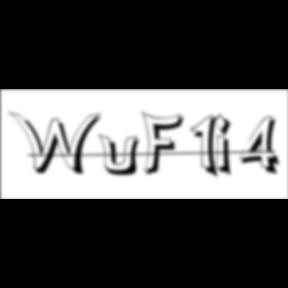1: (190, 114, 224, 182)
4: (240, 115, 286, 179)
F: (142, 110, 190, 178)
W: (9, 110, 107, 178)
i: (215, 112, 239, 180)
u: (98, 132, 146, 178)
